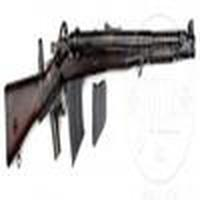gun: (1, 25, 200, 170)
